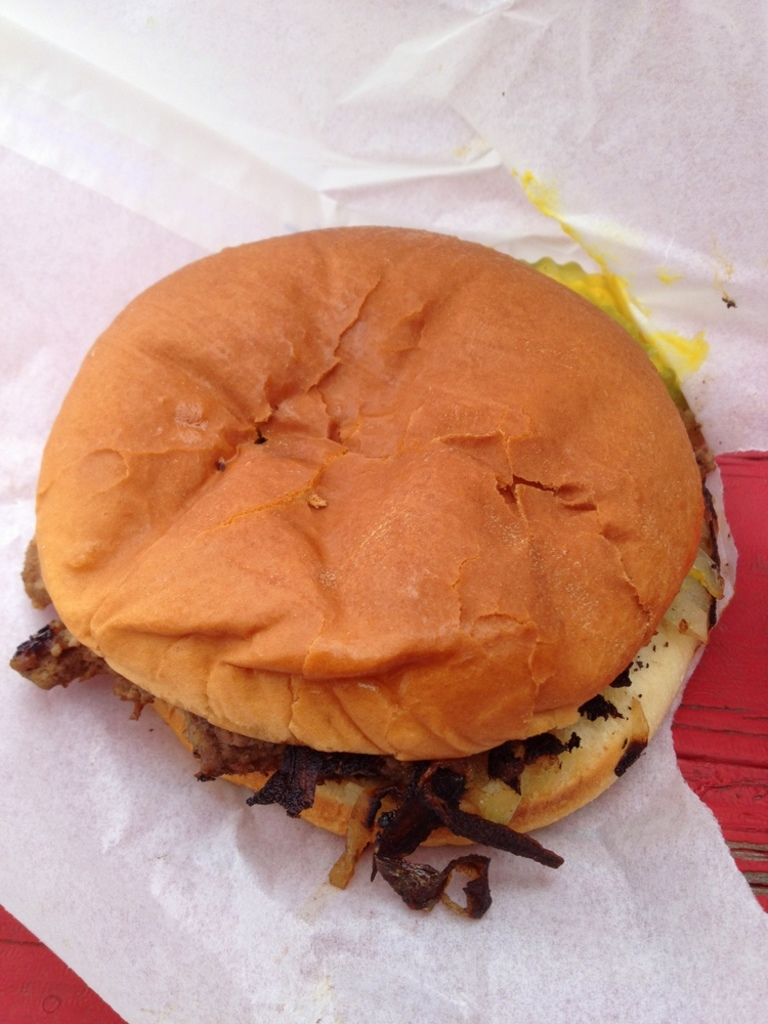Hamburger: (9, 181, 726, 917)
